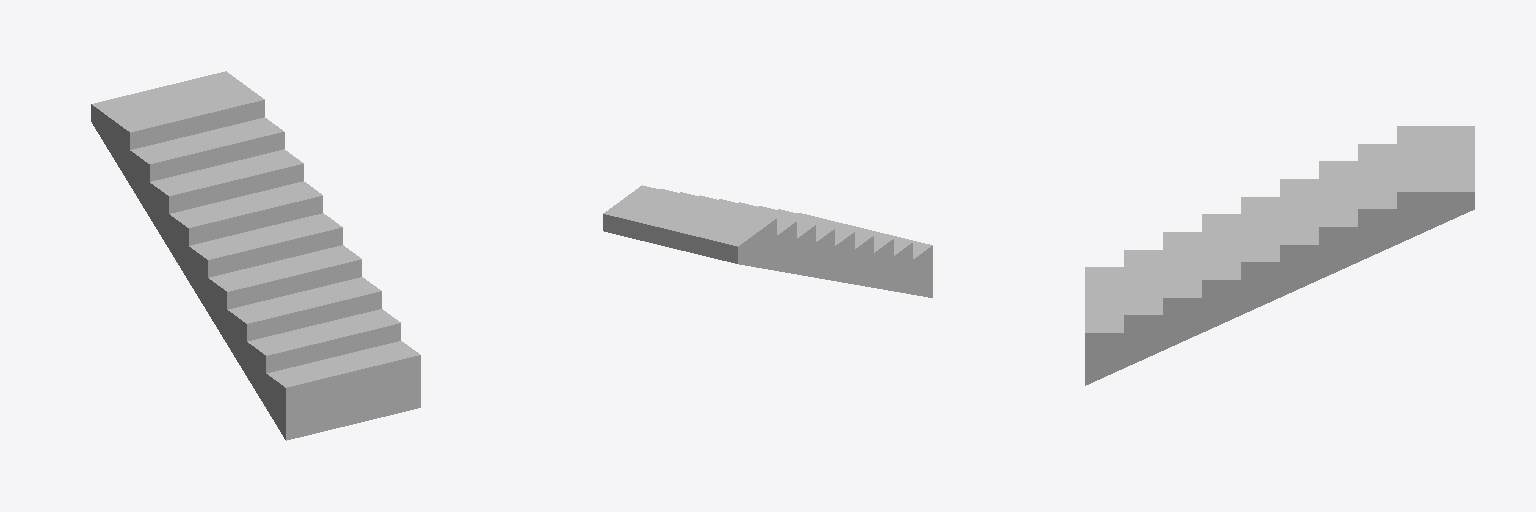
Rendered from Stairs (22).obj.
3 renders of one model, left to right at view 1: azimuth 30°, elevation 25°; view 2: azimuth 150°, elevation 25°; view 3: azimuth 270°, elevation 25°, orthographic.
Parts seen in each view (by area): view 1: Stairs (22); view 2: Stairs (22); view 3: Stairs (22).
Part boxes in pixels (x1,y1,x2,y2): Stairs (22): (91, 71, 420, 440); Stairs (22): (603, 185, 932, 297); Stairs (22): (1085, 126, 1474, 385).
Size of the model in its own units: 2 by 2.75 by 5.